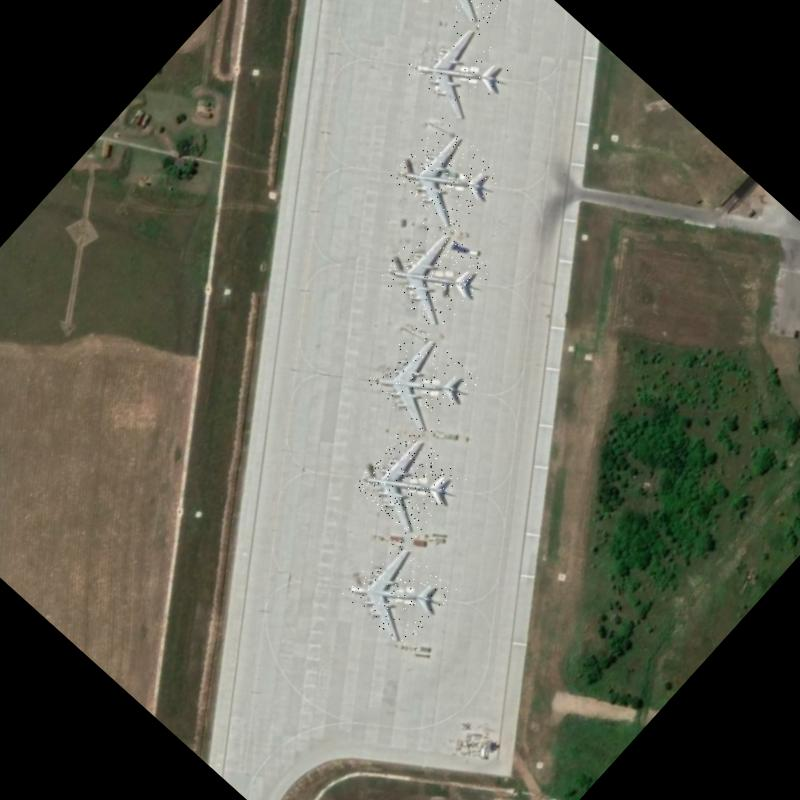A17: (374, 215, 492, 333), (349, 423, 467, 540), (401, 9, 518, 126), (388, 117, 505, 233), (340, 534, 457, 650), (364, 324, 480, 439), (413, 0, 528, 31)
